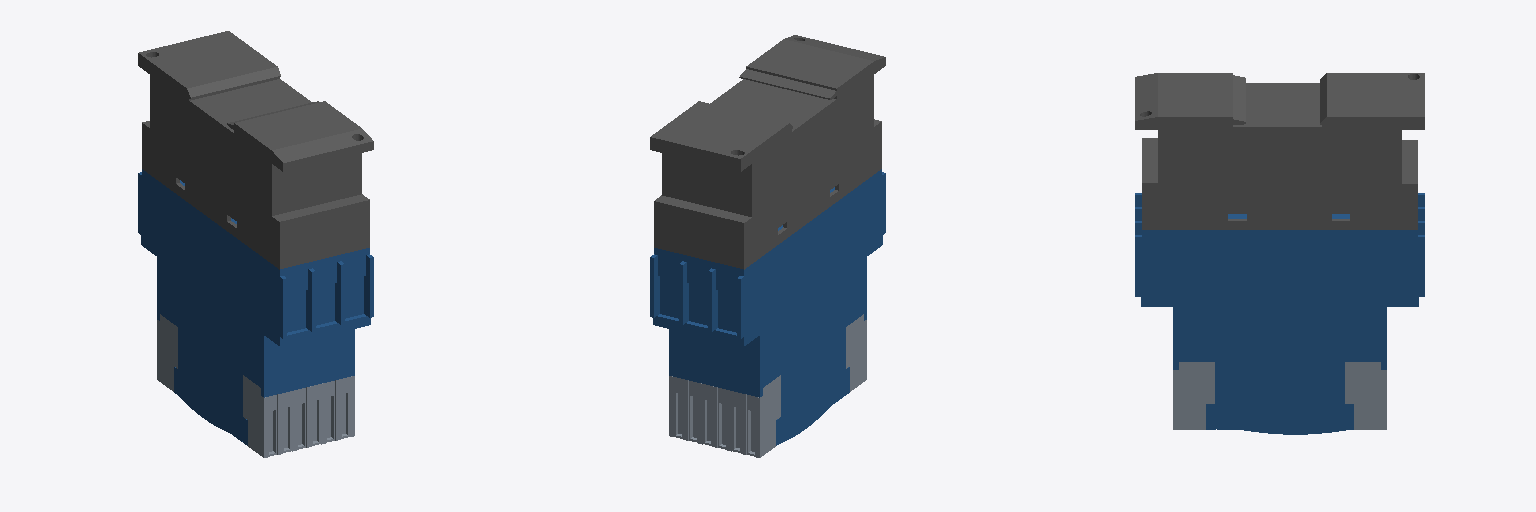
The model's file is Siemens_Iekarta.obj.
3 views of the same model, side by side, from view 1: azimuth 30°, elevation 25°; view 2: azimuth 150°, elevation 25°; view 3: azimuth 270°, elevation 25° (orthographic).
Visible parts, largest first — view 1: Part__Feature003, Part__Feature002, Part__Feature001, Part__Feature; view 2: Part__Feature003, Part__Feature002, Part__Feature, Part__Feature001; view 3: Part__Feature002, Part__Feature003, Part__Feature, Part__Feature001.
Boxes of the visible parts, box(x1,y1,x2,y2) form: Part__Feature003: box(138, 31, 373, 269); Part__Feature002: box(138, 169, 373, 445); Part__Feature001: box(243, 375, 354, 457); Part__Feature: box(157, 314, 177, 391); Part__Feature003: box(650, 35, 885, 269); Part__Feature002: box(650, 169, 885, 445); Part__Feature: box(669, 375, 780, 457); Part__Feature001: box(846, 314, 866, 391); Part__Feature002: box(1135, 193, 1424, 434); Part__Feature003: box(1135, 73, 1424, 229); Part__Feature: box(1345, 362, 1386, 429); Part__Feature001: box(1173, 362, 1214, 429).
Size of the model in its own units: 45 by 153 by 125.